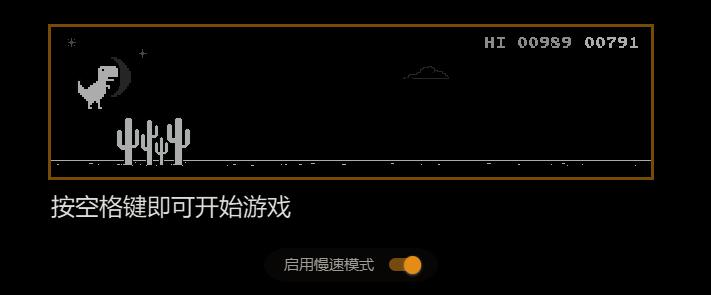cactus: (117, 118, 193, 167)
dino: (76, 58, 127, 110)
